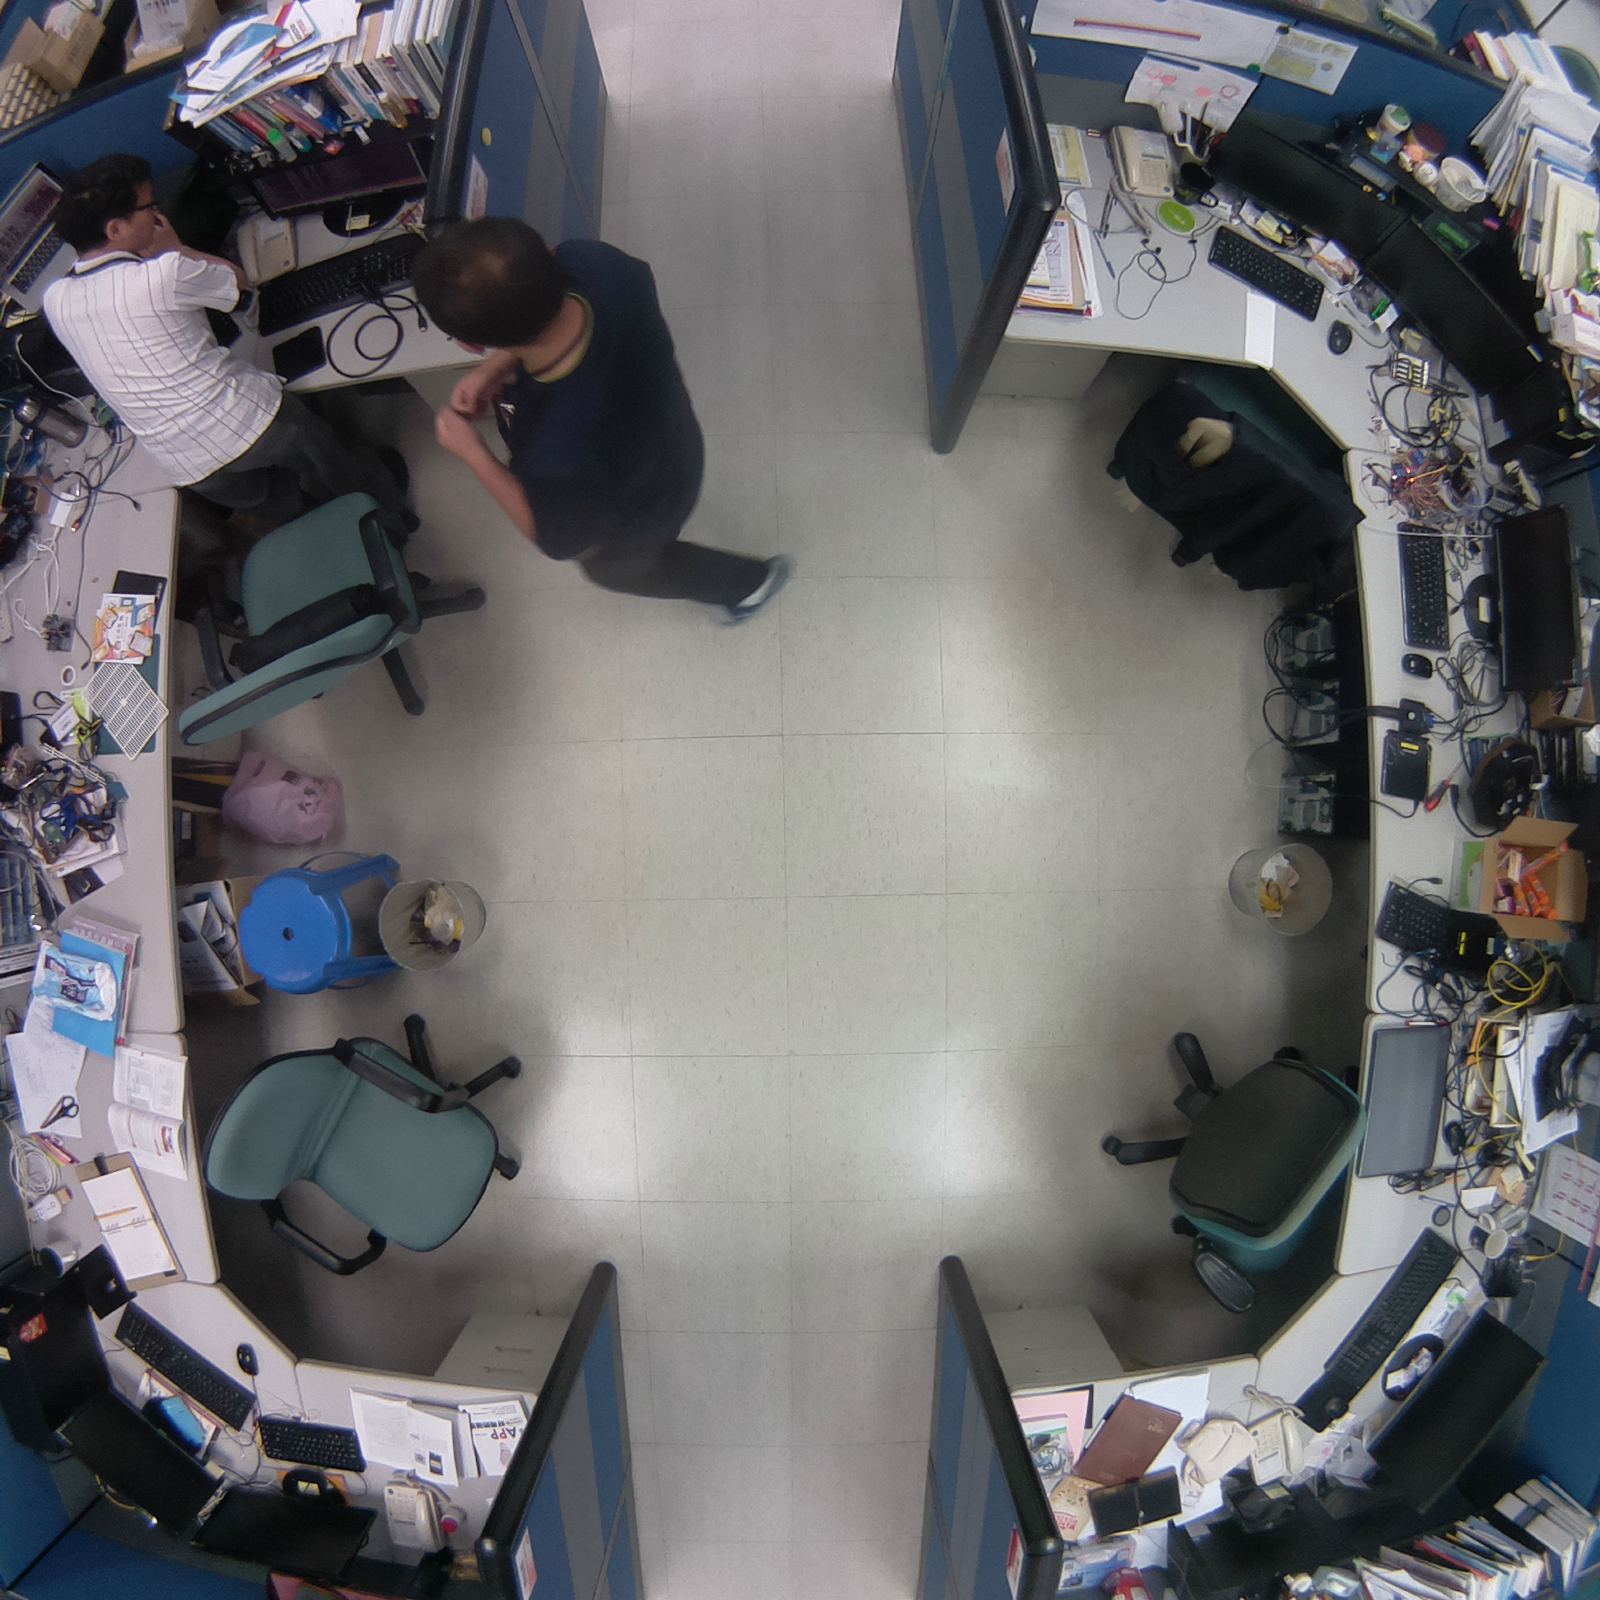chair: (183, 1006, 581, 1288), (1065, 1014, 1378, 1340), (165, 481, 494, 770), (1096, 342, 1378, 604)
head: (399, 205, 577, 363), (39, 149, 168, 256)
standing: (408, 218, 798, 634), (28, 152, 391, 541)
